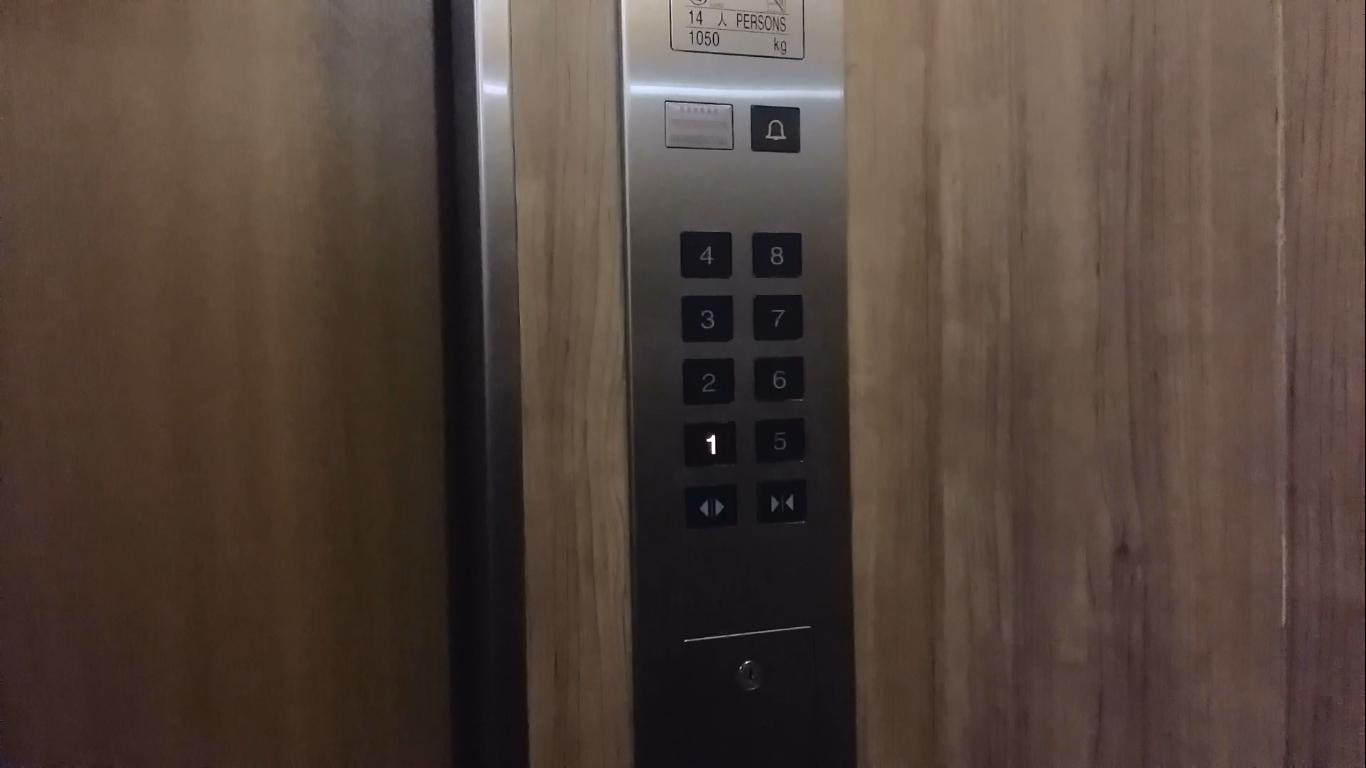1: (682, 419, 739, 465)
2: (679, 354, 737, 408)
3: (678, 291, 736, 345)
4: (677, 228, 736, 281)
5: (750, 416, 807, 466)
6: (752, 354, 809, 404)
7: (749, 291, 807, 345)
8: (748, 228, 806, 282)
alarm: (747, 101, 804, 156)
close: (752, 479, 810, 528)
keyhole: (731, 654, 766, 697)
open: (681, 482, 739, 531)
